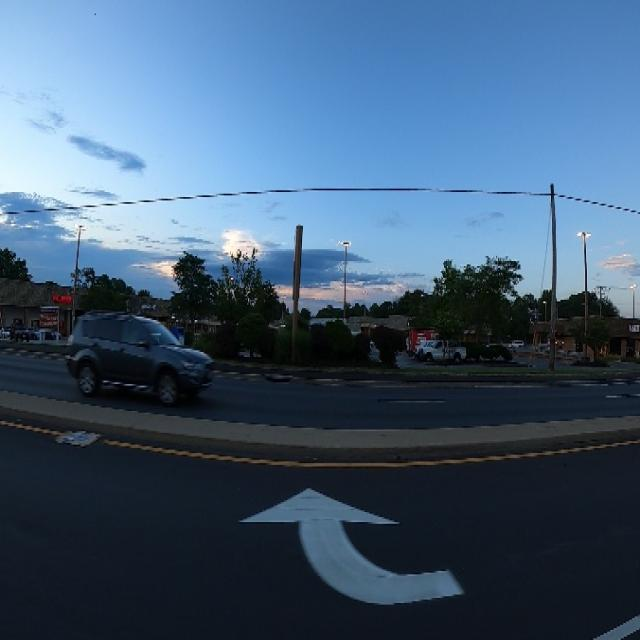cars: (70, 307, 215, 409), (418, 338, 468, 364), (408, 323, 450, 353), (9, 315, 30, 346), (510, 333, 524, 355)
